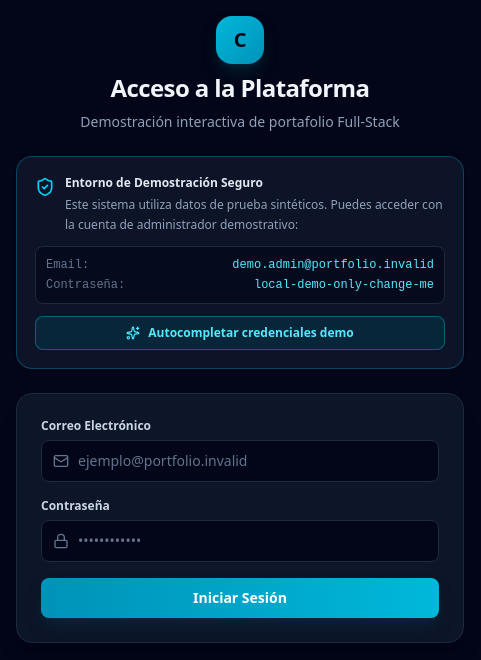
Test case: Pantalla de Login y Accesibilidad › autocompleta credenciales demostrativas al presionar el botón de ayuda
The width and height of the screenshot is (481, 660).
Click the button "Autocompletar credenciales demo".
click(240, 333)  # box x1=35 y1=316 x2=445 y2=350
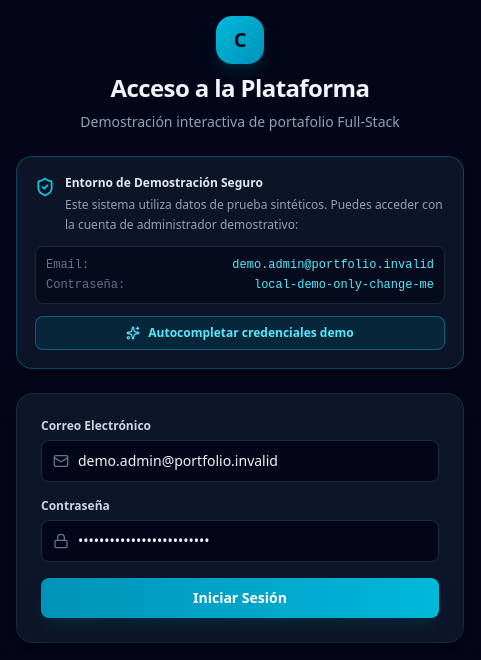
Check: the field labelled "Correo Electrónico" holds "demo.admin@portfolio.invalid", box x1=41 y1=440 x2=439 y2=482
Check: the password field labelled "Contraseña" holds "local-demo-only-change-me", box x1=41 y1=520 x2=439 y2=562
